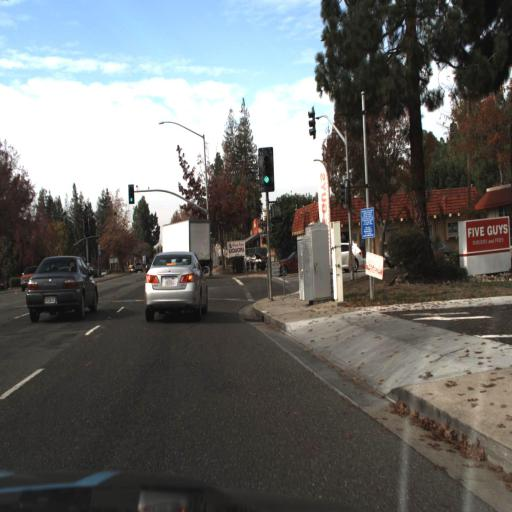car: (20, 237, 102, 345), (137, 244, 210, 328), (141, 247, 211, 324), (322, 235, 368, 271), (417, 225, 456, 266), (13, 254, 37, 302), (275, 249, 300, 281), (241, 244, 268, 272), (128, 256, 145, 280)
trafficLight-Green: (260, 166, 274, 195), (126, 182, 136, 210)
truck: (154, 210, 220, 271)
